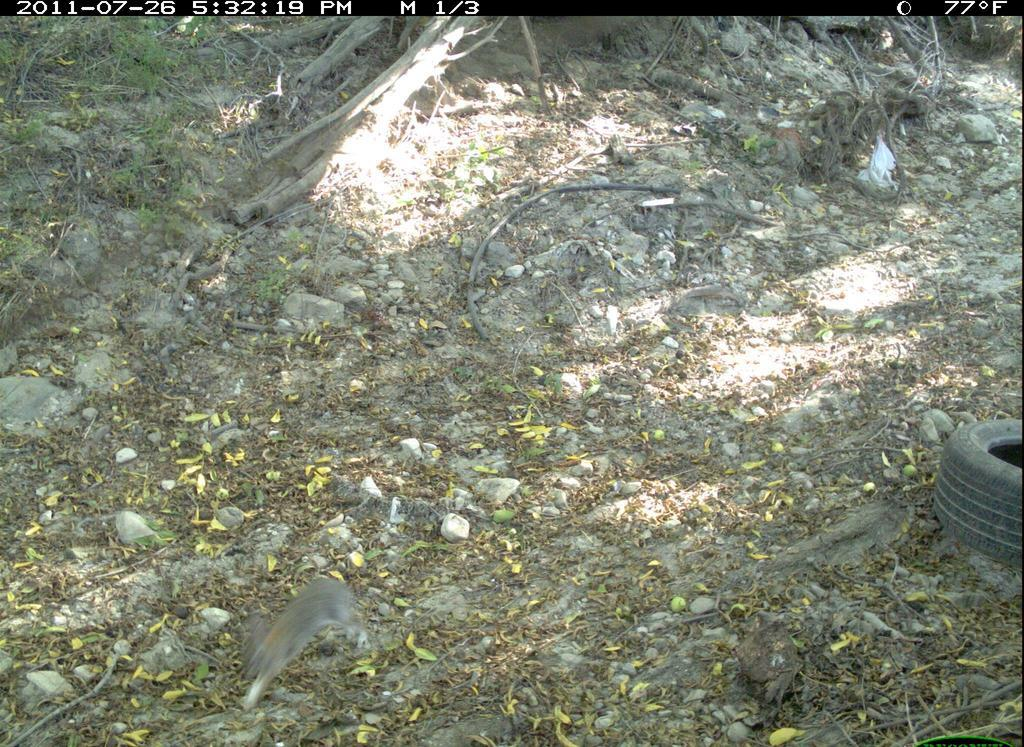rabbit: (228, 570, 373, 716)
